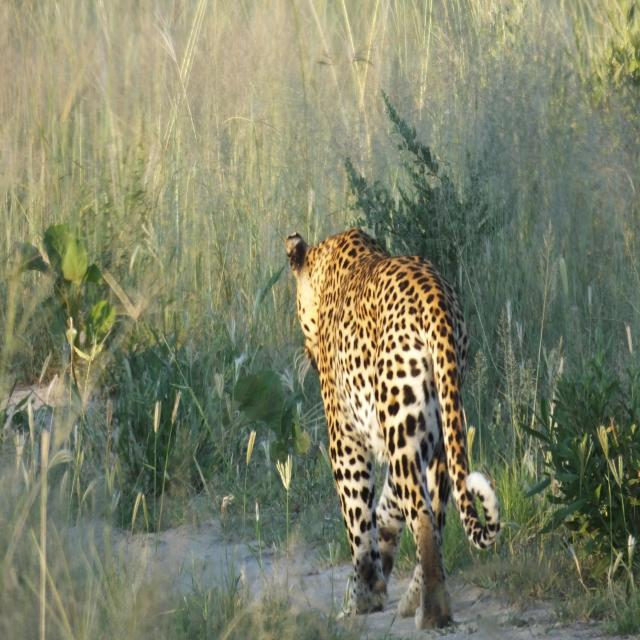Leopard: (290, 214, 483, 606)
